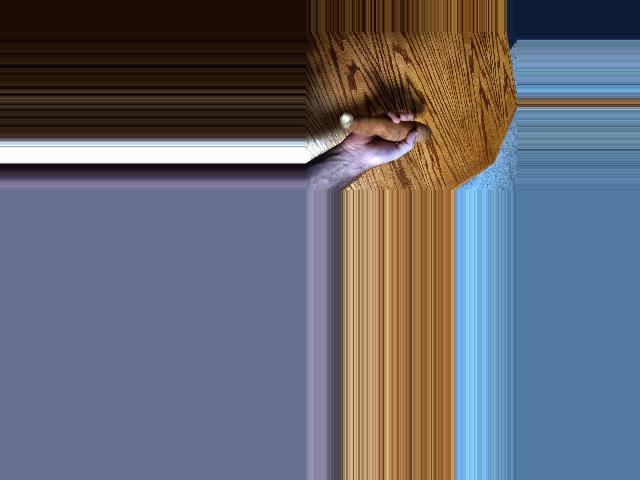sweet_potato: (337, 115, 437, 146)
